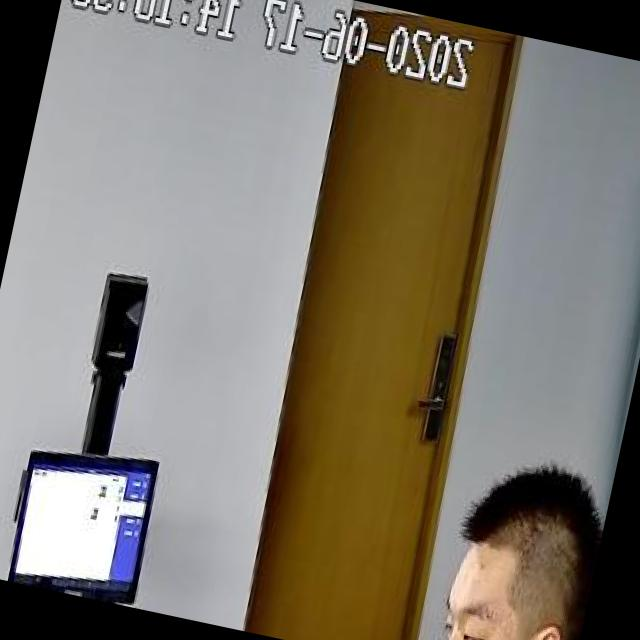Guns: (251, 613, 398, 640)
